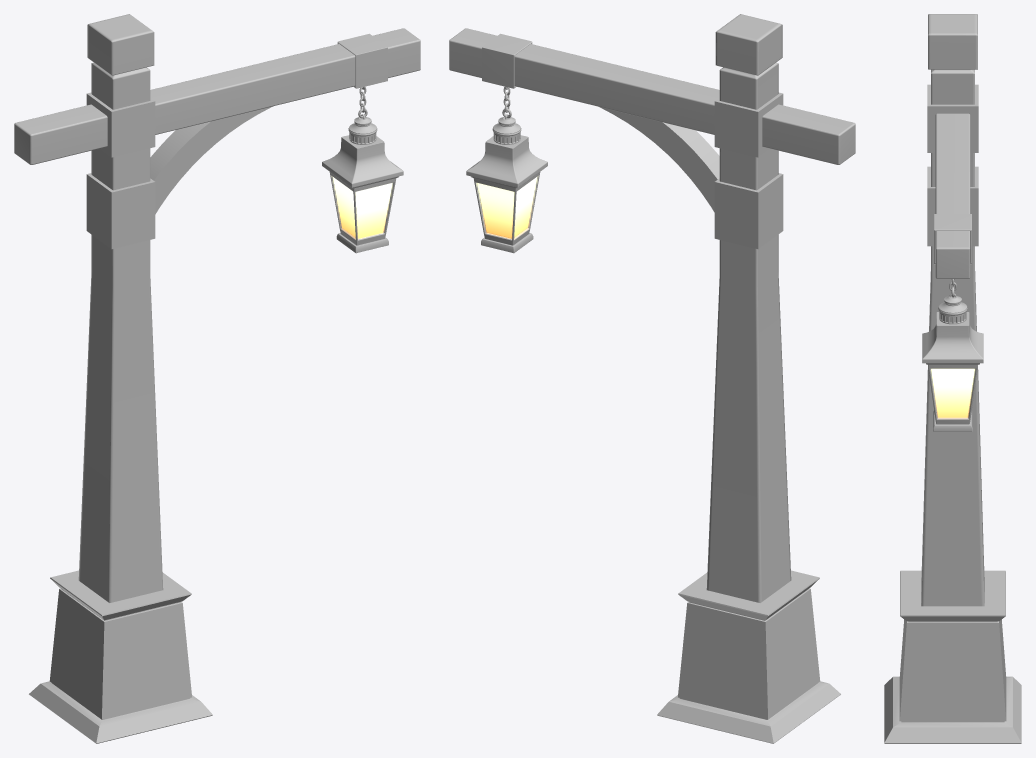
Rendered from Lantern.gltf.
The picture shows the model from 3 angles, left to right: view 1: azimuth 30°, elevation 25°; view 2: azimuth 150°, elevation 25°; view 3: azimuth 270°, elevation 25°; orthographic projection.
Visible parts, largest first — view 1: LanternPole_Body, LanternPole_Lantern; view 2: LanternPole_Body, LanternPole_Lantern; view 3: LanternPole_Body, LanternPole_Lantern.
Boxes of the visible parts, left/top/right/bottom form: LanternPole_Body: left=14, top=14, right=420, bottom=743; LanternPole_Lantern: left=322, top=108, right=403, bottom=253; LanternPole_Body: left=449, top=14, right=855, bottom=743; LanternPole_Lantern: left=466, top=108, right=547, bottom=253; LanternPole_Body: left=884, top=14, right=1021, bottom=743; LanternPole_Lantern: left=922, top=287, right=983, bottom=431.
Size of the model in its own units: 15.49 by 25.66 by 4.63.
